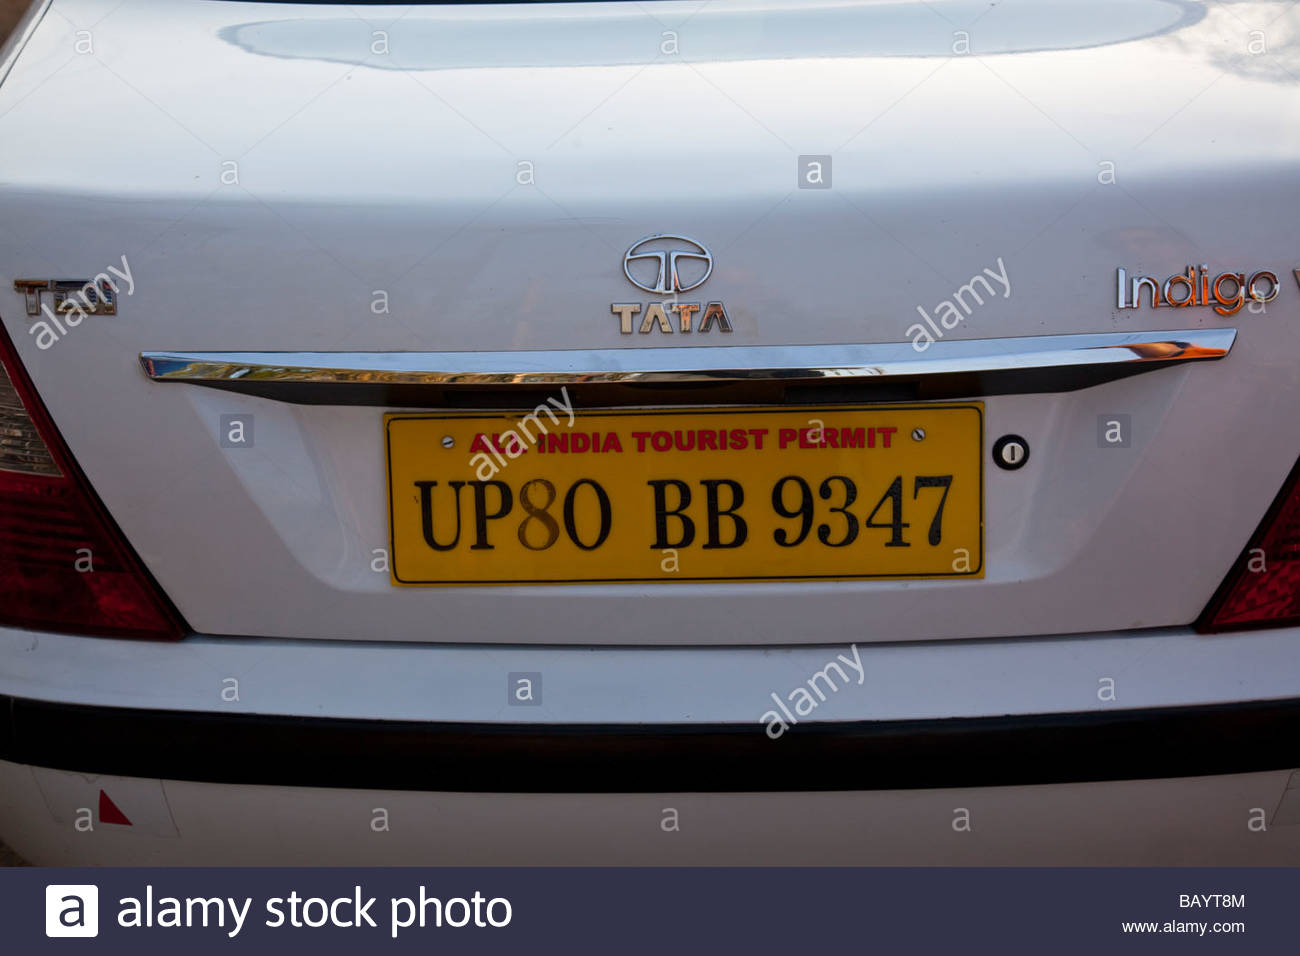numberplate: (377, 409, 990, 587)
